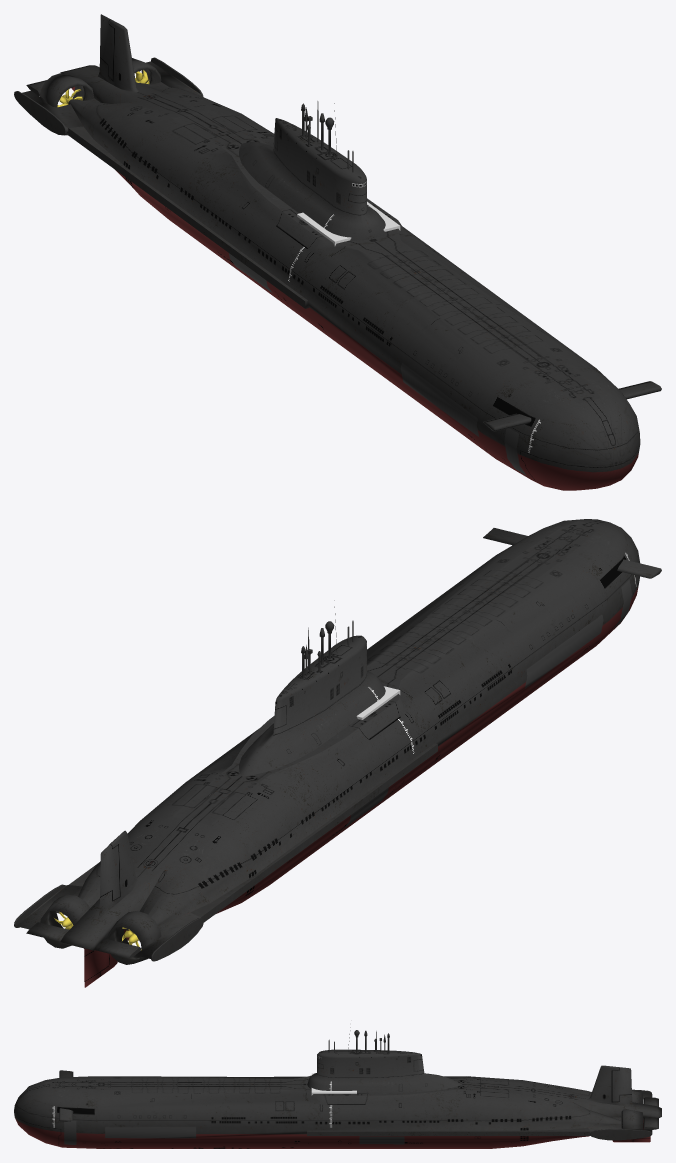
The model's file is 914_akula_submarine.gltf.
3 views of the same model, one above another, from view 1: azimuth 30°, elevation 25°; view 2: azimuth 150°, elevation 25°; view 3: azimuth 270°, elevation 25° (orthographic). The views are drawn at different scales.
Parts seen in each view (by area): view 1: Cube_0, Cube; view 2: Cube_0; view 3: Cube_0.
Boxes of the visible parts, x1,y1,x2,y2 form: Cube_0: (14,14,661,490); Cube: (297,201,400,246); Cube_0: (14,519,661,987); Cube_0: (14,1027,661,1148).
Size of the model in its own units: 5.15 by 6.17 by 28.69.
3 materials, 1 textured.
